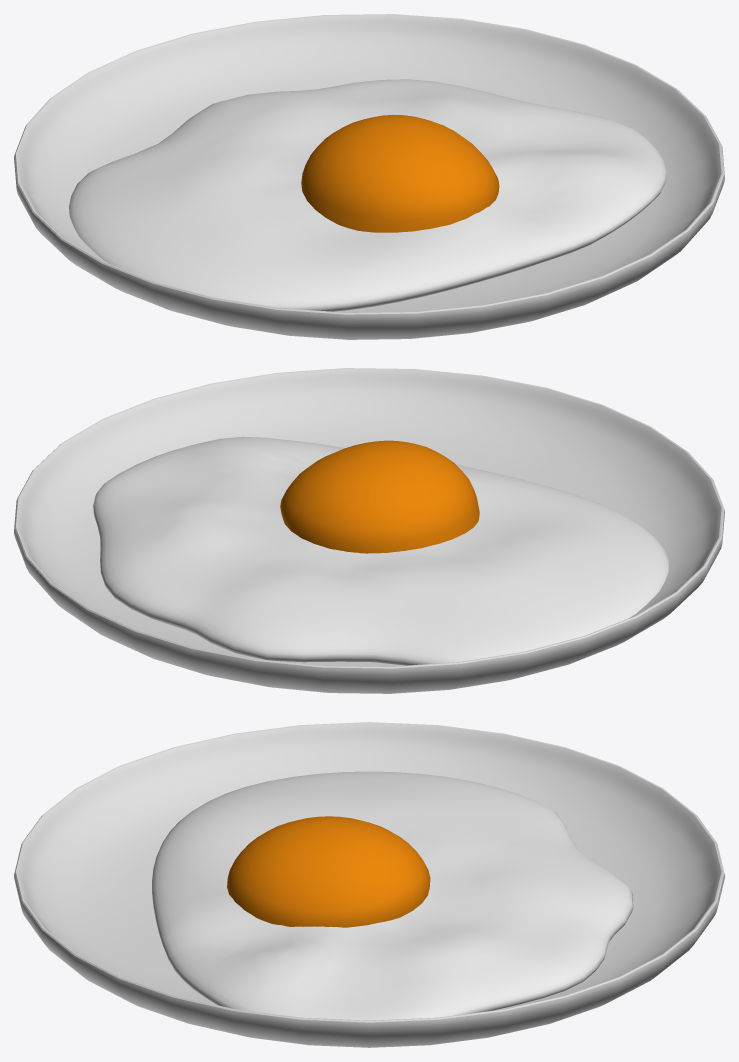
The model's file is fried egg.fbx.
The picture shows the model from 3 angles, top to bottom: view 1: azimuth 30°, elevation 25°; view 2: azimuth 150°, elevation 25°; view 3: azimuth 270°, elevation 25°; orthographic projection.
Parts seen in each view (by area): view 1: fried egg, dish; view 2: fried egg, dish; view 3: fried egg, dish.
Part boxes in pixels (bbox=[...]): fried egg: bbox=[69, 79, 666, 311]; dish: bbox=[14, 14, 724, 339]; fried egg: bbox=[93, 436, 668, 665]; dish: bbox=[14, 368, 724, 693]; fried egg: bbox=[152, 771, 633, 1020]; dish: bbox=[14, 722, 724, 1047].
Size of the model in its own units: 15.95 by 3.65 by 15.95.
